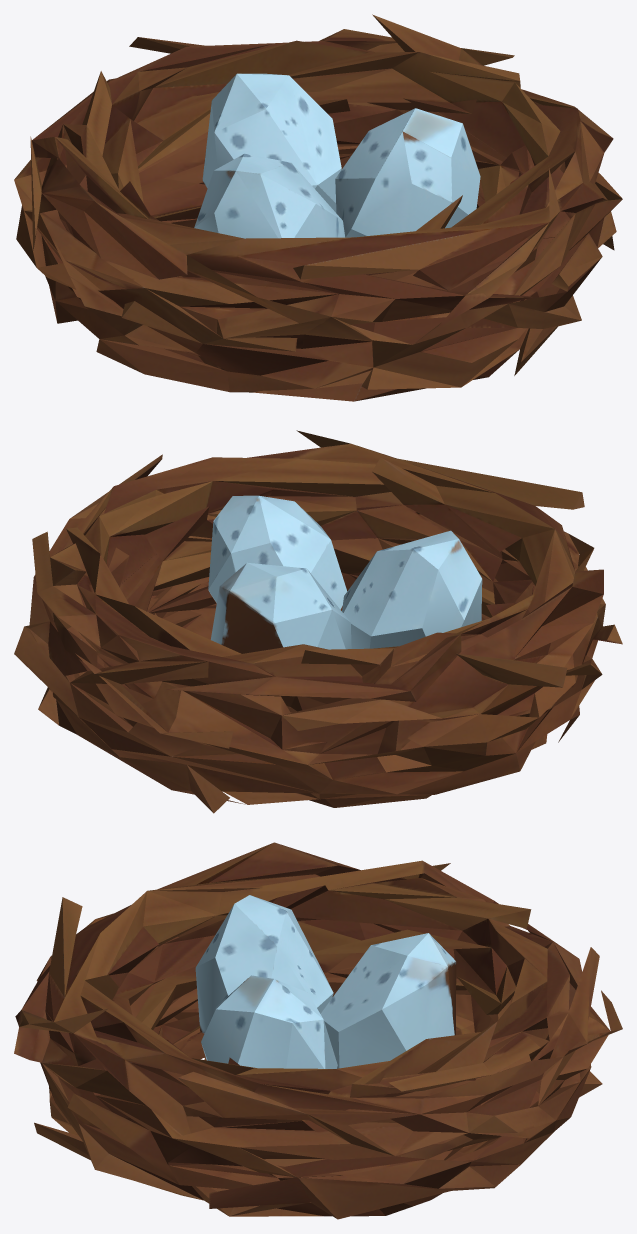
3 renders of one model, top to bottom at view 1: azimuth 30°, elevation 25°; view 2: azimuth 150°, elevation 25°; view 3: azimuth 270°, elevation 25°, orthographic. The views are drawn at different scales.
Bounding box in the file's own units: 1.81 × 0.6434 × 1.89.
1 material, 1 textured.
